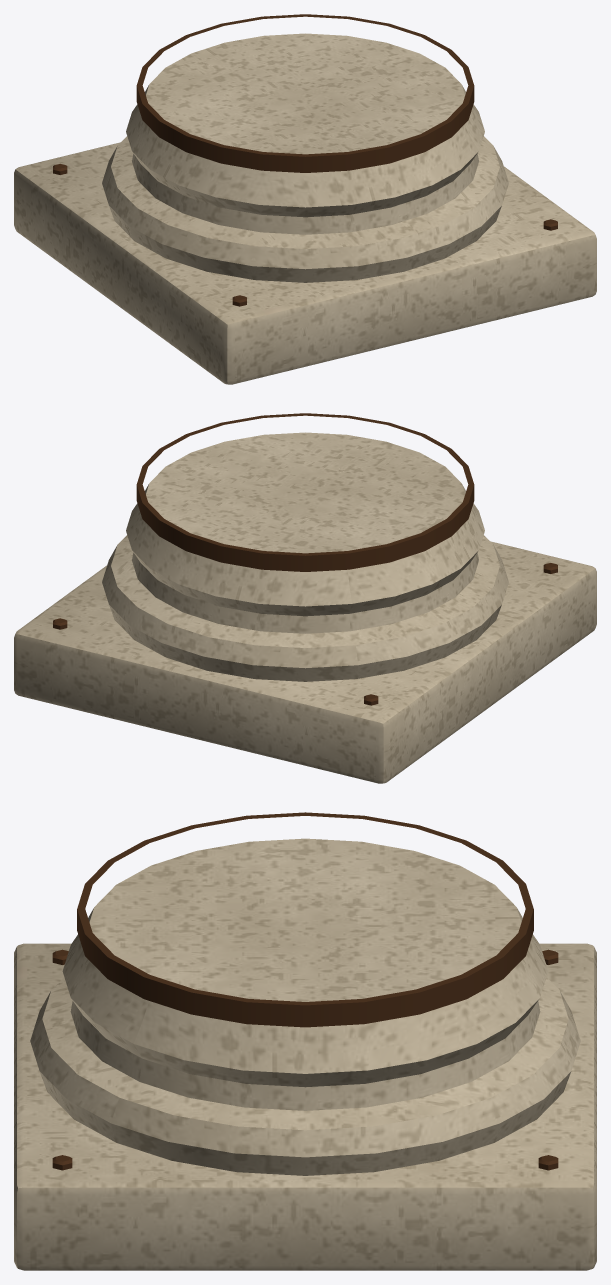
Rendered from column-base-stone.lod0.glb.
3 renders of one model, top to bottom at view 1: azimuth 30°, elevation 25°; view 2: azimuth 150°, elevation 25°; view 3: azimuth 270°, elevation 25°, orthographic. The views are drawn at different scales.
Visible parts, largest first — view 1: column_base_stone_Stone • warm limestone, column_base_stone_Trim • places palette; view 2: column_base_stone_Stone • warm limestone, column_base_stone_Trim • places palette; view 3: column_base_stone_Stone • warm limestone, column_base_stone_Trim • places palette.
Part boxes in pixels (x1,y1,x2,y2): column_base_stone_Stone • warm limestone: (14,33,596,384); column_base_stone_Trim • places palette: (53,14,557,306); column_base_stone_Stone • warm limestone: (14,432,596,783); column_base_stone_Trim • places palette: (53,413,557,705); column_base_stone_Stone • warm limestone: (14,838,596,1270); column_base_stone_Trim • places palette: (52,812,558,1170).
Bounding box in the file's own units: 0.72 × 0.33 × 0.72.
2 materials, 2 textured.
